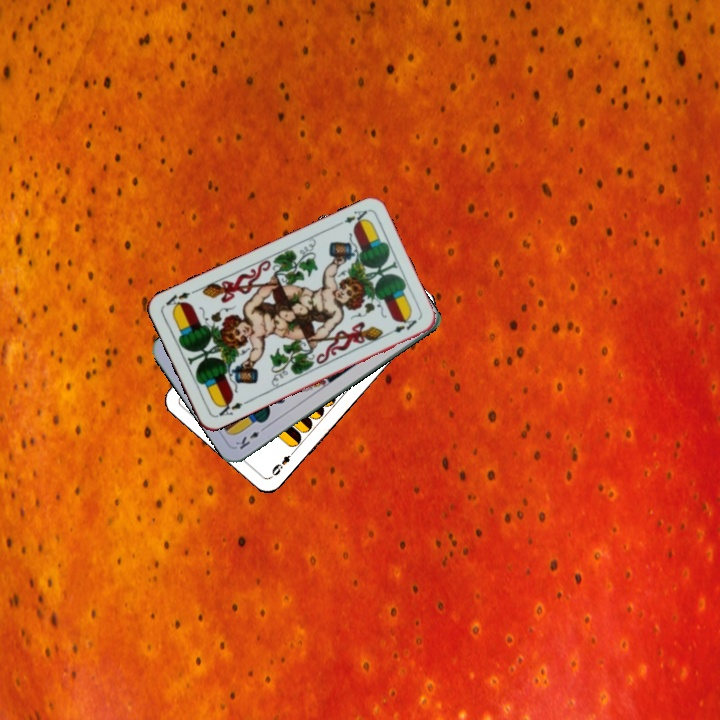E9: (268, 446, 298, 478)
EA: (332, 206, 370, 229), (212, 396, 245, 420)
EK: (231, 422, 269, 452)
